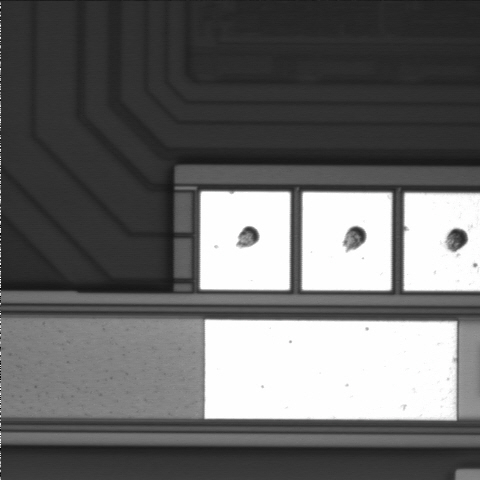pad: (200, 191, 290, 290), (302, 192, 392, 290)
